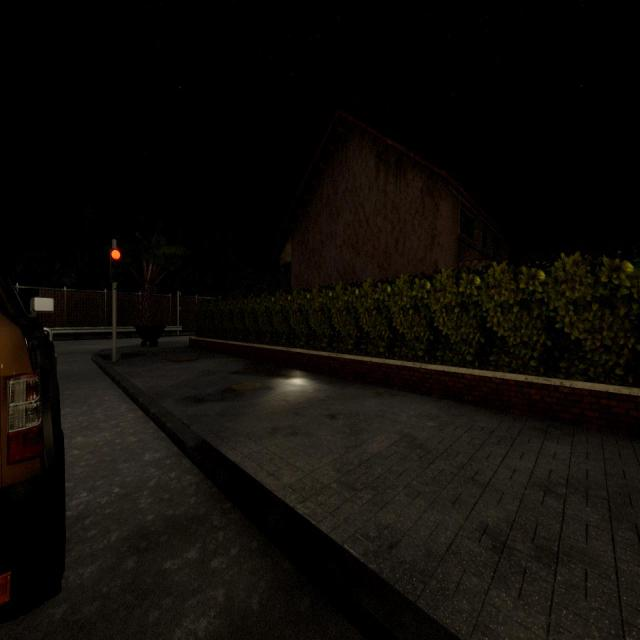Vehicle: (0, 276, 66, 620)
traffic_light: (110, 248, 122, 282), (179, 294, 182, 310)
